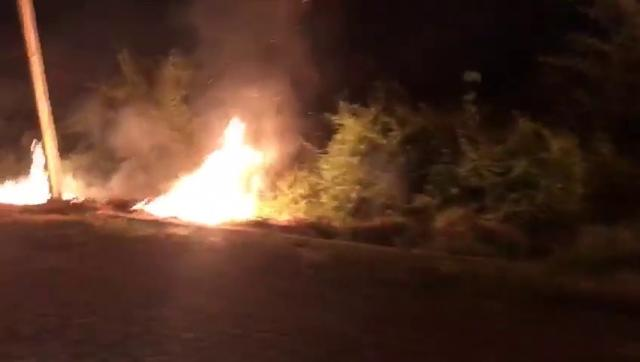fire: (133, 110, 264, 223), (2, 137, 51, 205)
smoke: (66, 1, 322, 202)
